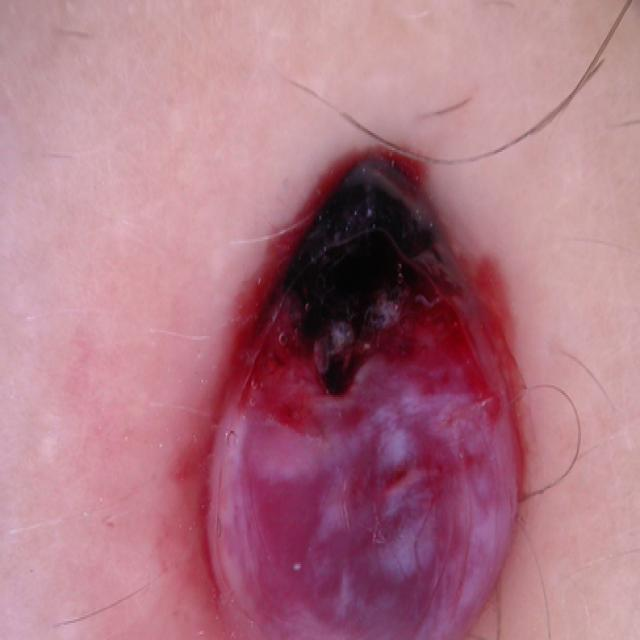Vascular Lesions: (166, 104, 578, 640)
